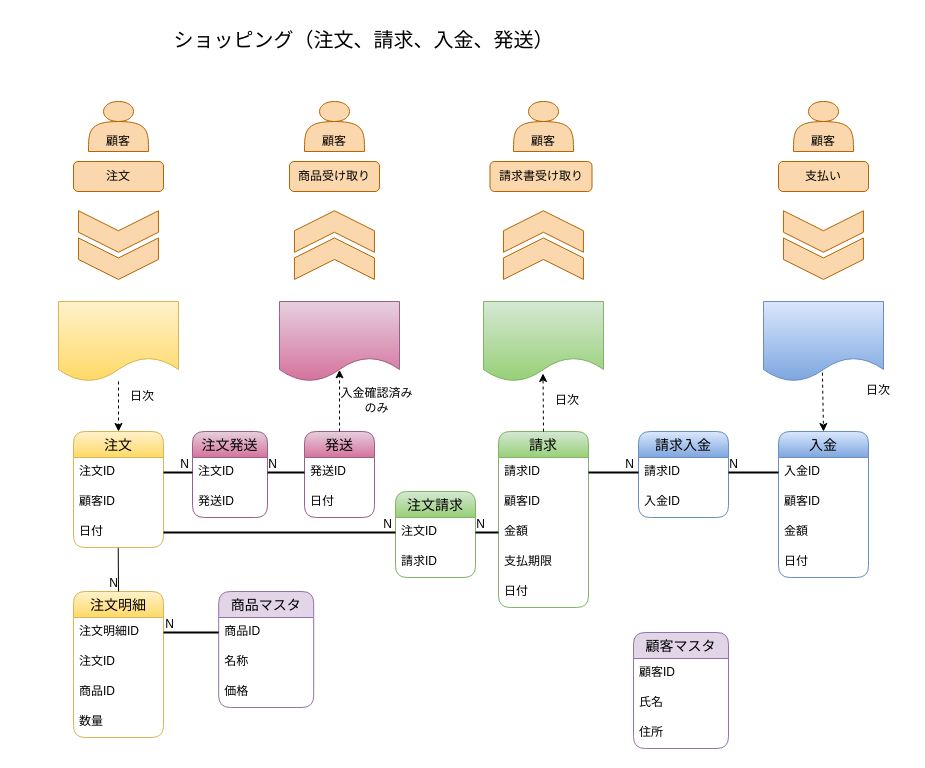
The diagram is 925 pixels wide and 768 high, and some of its shapes have lost their labels. Each missing label, with the centre of its shape:
"入金ファイル" belongs at point (823, 341).
"注文ファイル" belongs at point (118, 341).
"発送先ファイル" belongs at point (339, 341).
"請求ファイル" belongs at point (543, 341).
